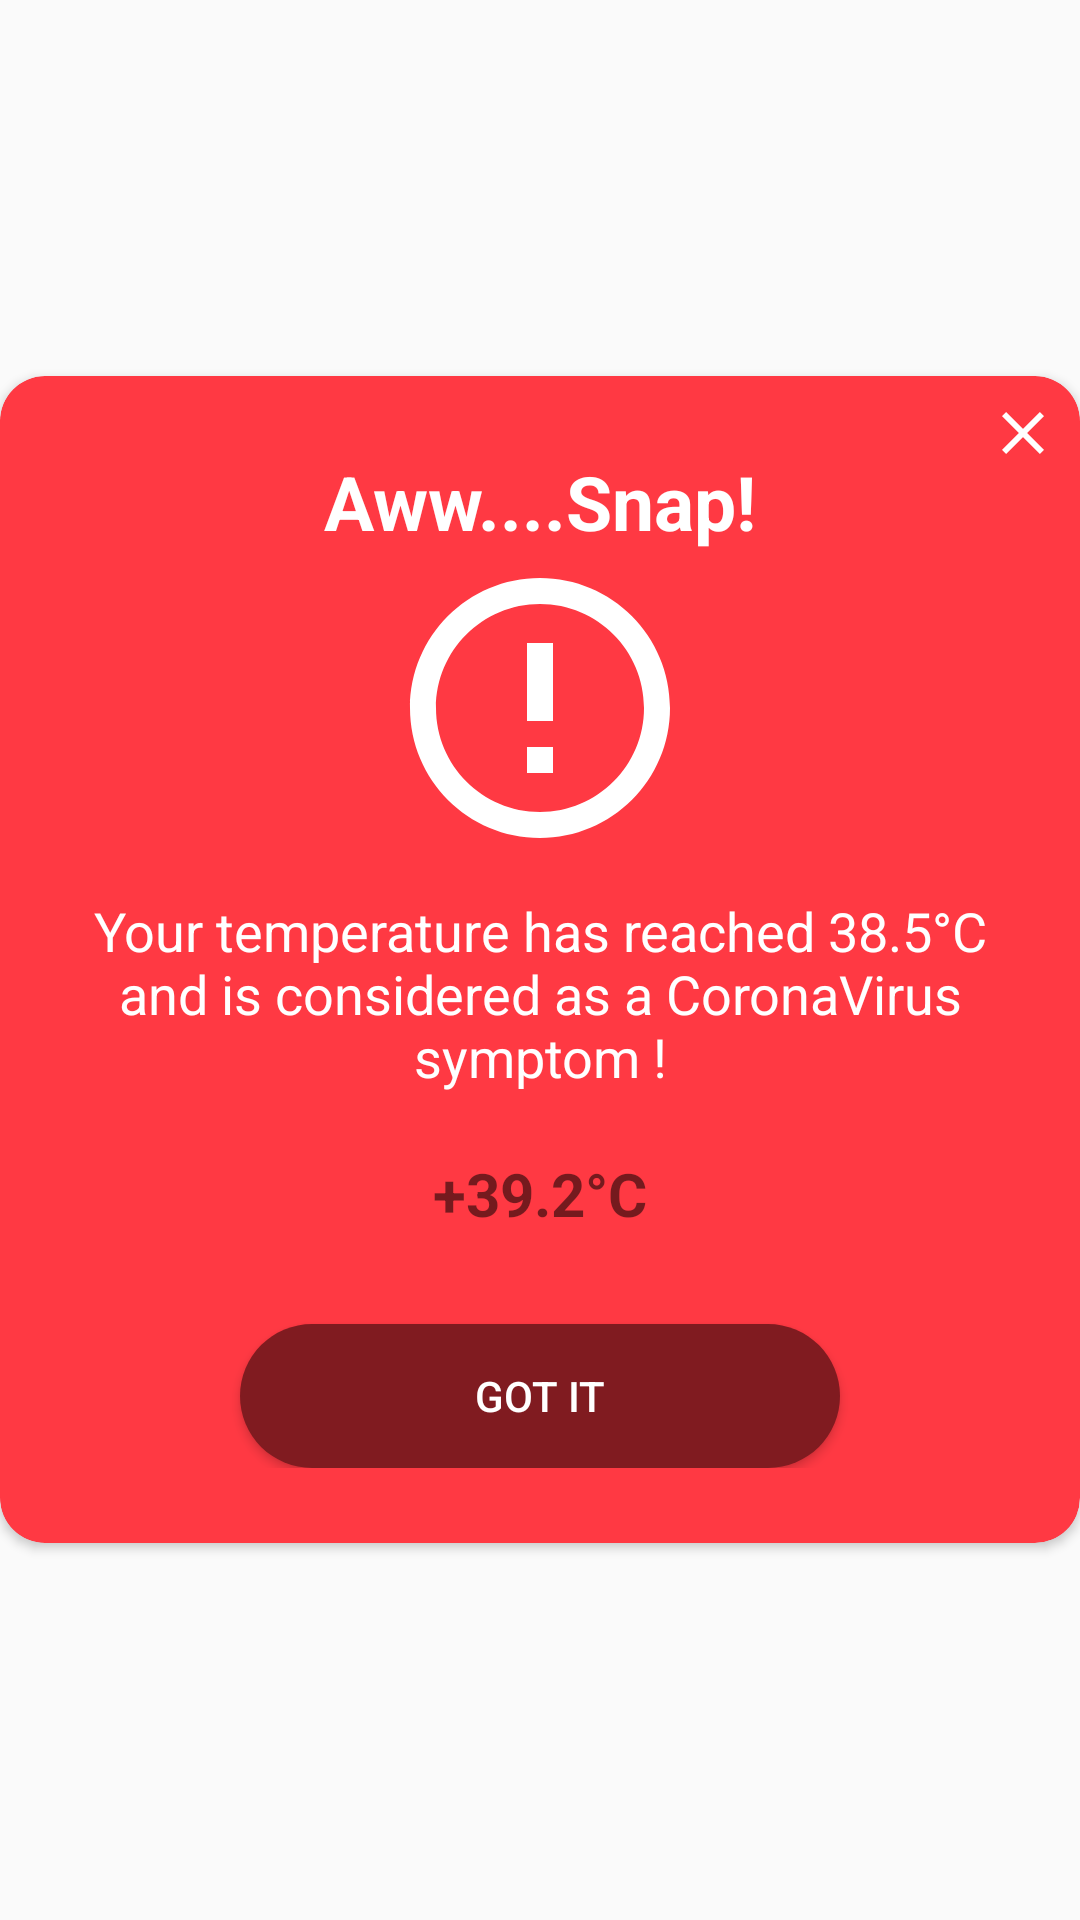

Screen size 1080 × 1920. Icon name, then its center in pixels as (x,y):
close: (1023,433)
erreur: (540,708)
